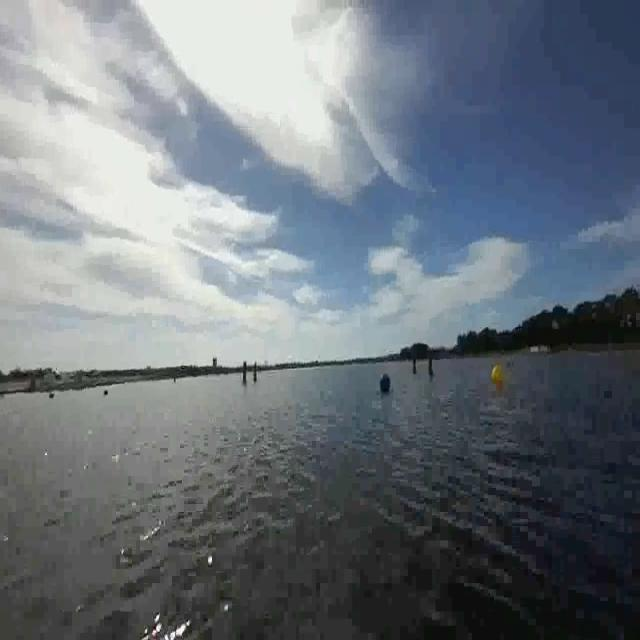blue-buoy: (379, 373, 392, 395)
green-column-buoy: (426, 356, 434, 377)
yellow-buoy: (492, 366, 504, 387)
